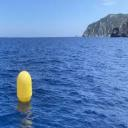yellow: (17, 71, 32, 102)
